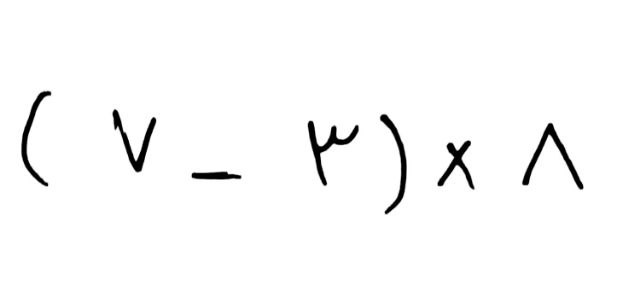character: (521, 121, 587, 190), (306, 117, 363, 190), (20, 88, 54, 189), (109, 106, 158, 176), (380, 112, 408, 218), (438, 137, 476, 190), (190, 170, 243, 182)
